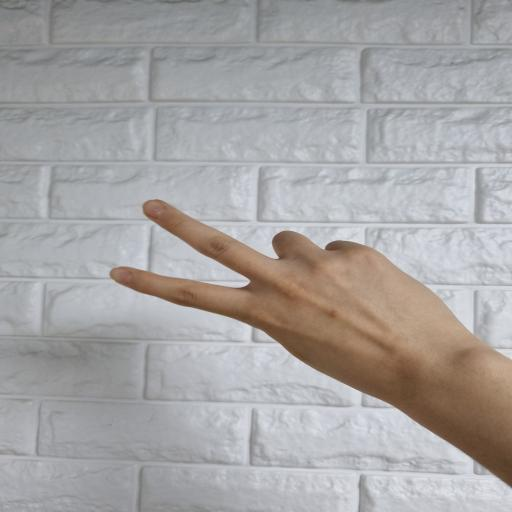Scissors: (109, 199, 512, 489)
